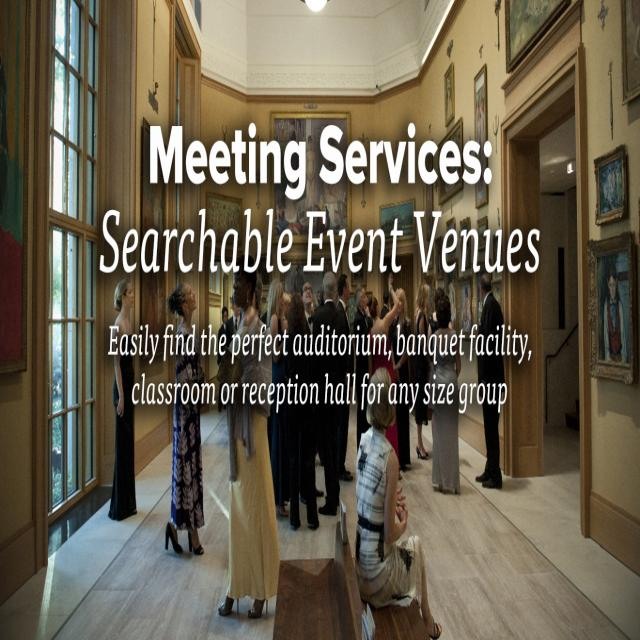body: (352, 362, 444, 639), (216, 249, 281, 623), (163, 277, 206, 558), (279, 290, 320, 534), (310, 269, 347, 519), (274, 122, 346, 237), (366, 269, 404, 482), (106, 276, 138, 524), (474, 270, 507, 492), (1, 0, 20, 367), (430, 292, 462, 497), (265, 276, 289, 520), (435, 240, 502, 322), (300, 281, 324, 506), (279, 261, 370, 320), (330, 271, 355, 484), (426, 286, 453, 442), (390, 284, 412, 474), (352, 280, 374, 457), (412, 280, 432, 462), (602, 262, 621, 361), (204, 197, 240, 240), (217, 306, 230, 414), (472, 87, 484, 196), (382, 206, 413, 238), (225, 290, 242, 348), (601, 163, 621, 209), (277, 291, 291, 346), (251, 272, 264, 318), (380, 288, 391, 320), (445, 74, 453, 118)
